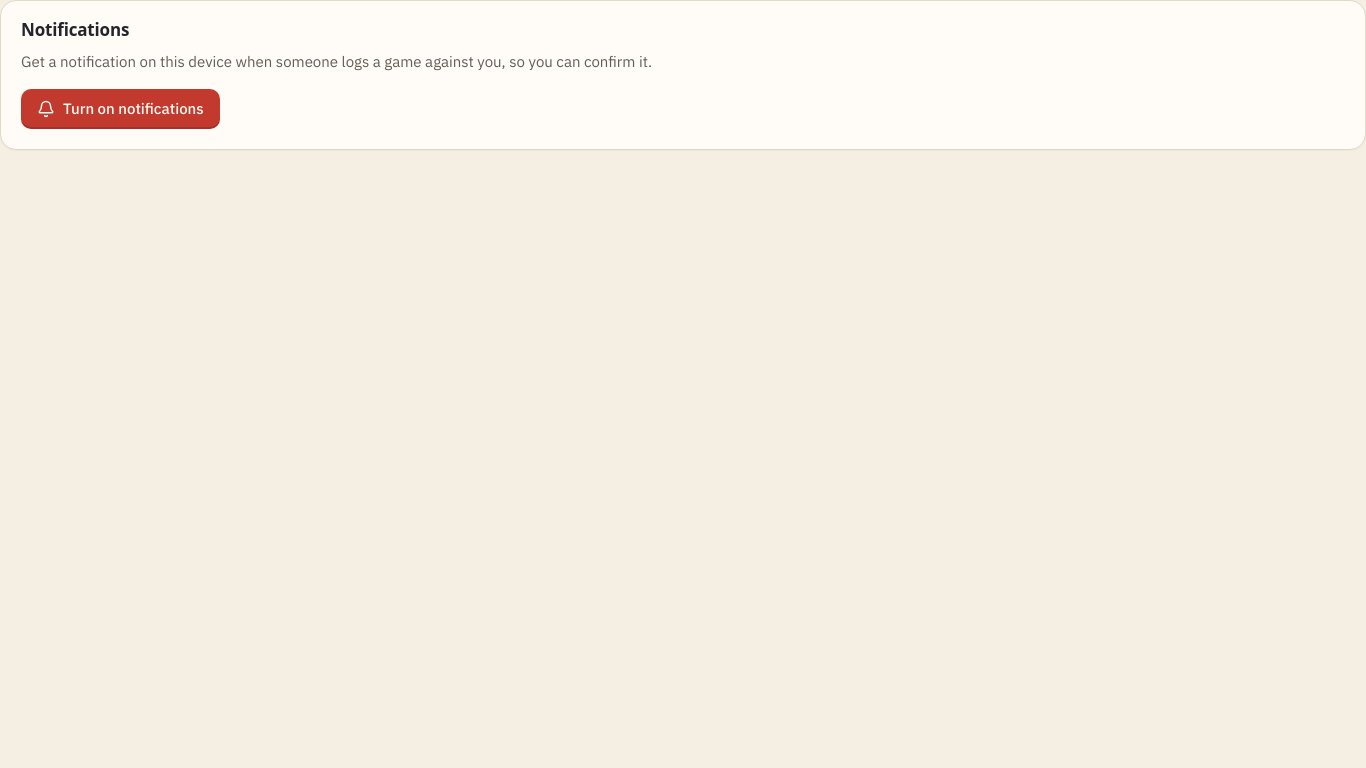
Test: NotificationsPanel › says so when the browser can’t subscribe
The image size is (1366, 768).
Click the button "Turn on notifications" at [120, 109], box x1=21 y1=89 x2=220 y2=129
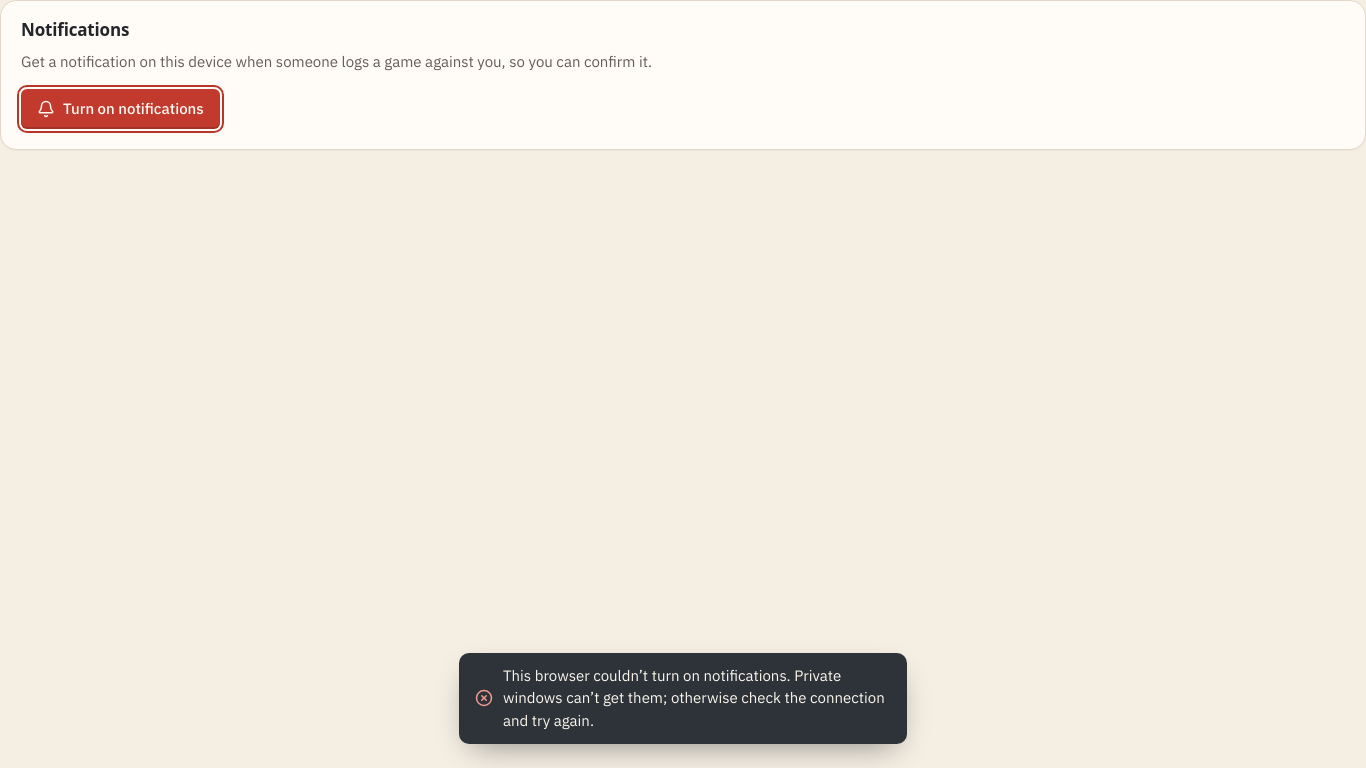
expect the text "This browser couldn’t turn on notifications. Private windows can’t get them; otherwise check the connection and try agai" is shown: met, box x1=503 y1=666 x2=885 y2=730
